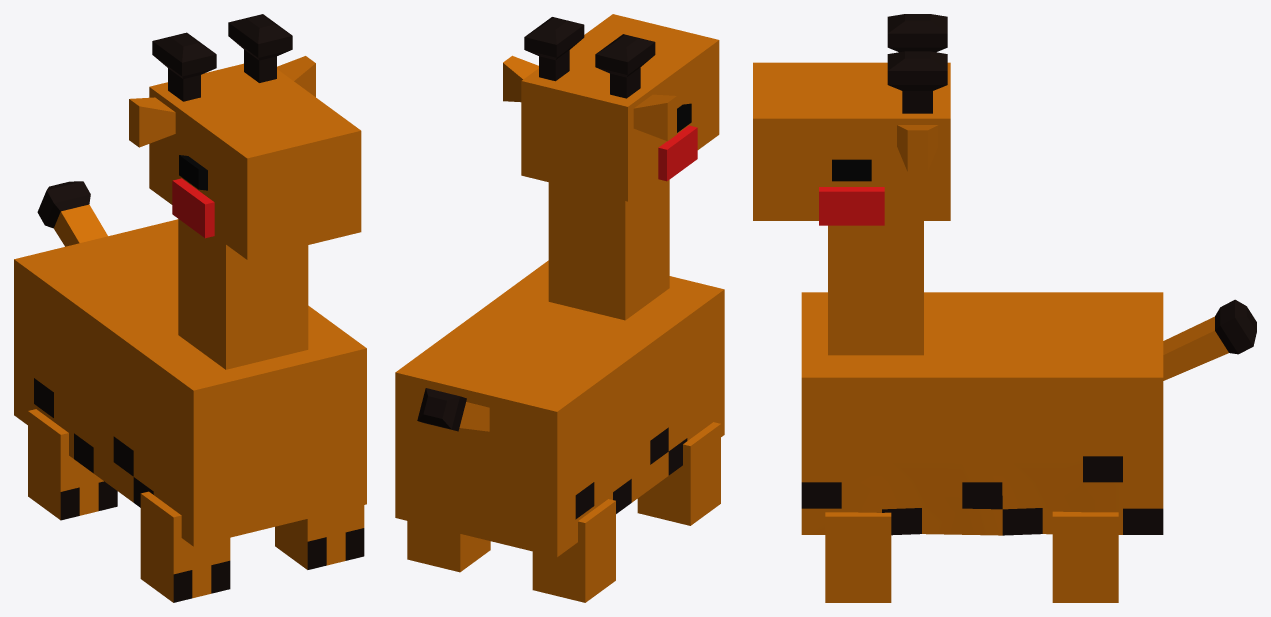
The model's file is Giraffe.FBX.
3 renders of one model, left to right at view 1: azimuth 30°, elevation 25°; view 2: azimuth 150°, elevation 25°; view 3: azimuth 270°, elevation 25°, orthographic. The views are drawn at different scales.
Parts seen in each view (by area): view 1: Box010, Box012, Box011, Box007, Box008, Box006; view 2: Box010, Box012, Box011, Box008, Box007, Box009; view 3: Box010, Box012, Box011, Box009, Box006.
Part boxes in pixels (<box>): Box010: <box>14,181,366,546</box>; Box012: <box>129,14,361,259</box>; Box011: <box>178,219,308,369</box>; Box007: <box>140,491,230,602</box>; Box008: <box>28,409,117,520</box>; Box006: <box>275,505,364,569</box>; Box010: <box>395,260,724,557</box>; Box012: <box>503,14,719,201</box>; Box011: <box>548,179,669,320</box>; Box008: <box>532,499,615,602</box>; Box007: <box>637,422,720,525</box>; Box009: <box>407,521,490,572</box>; Box010: <box>801,292,1256,535</box>; Box012: <box>753,14,950,225</box>; Box011: <box>828,221,923,355</box>; Box009: <box>1052,511,1118,602</box>; Box006: <box>825,512,891,602</box>.
Bounding box in the file's own units: 15.67 × 40.42 × 35.54.
